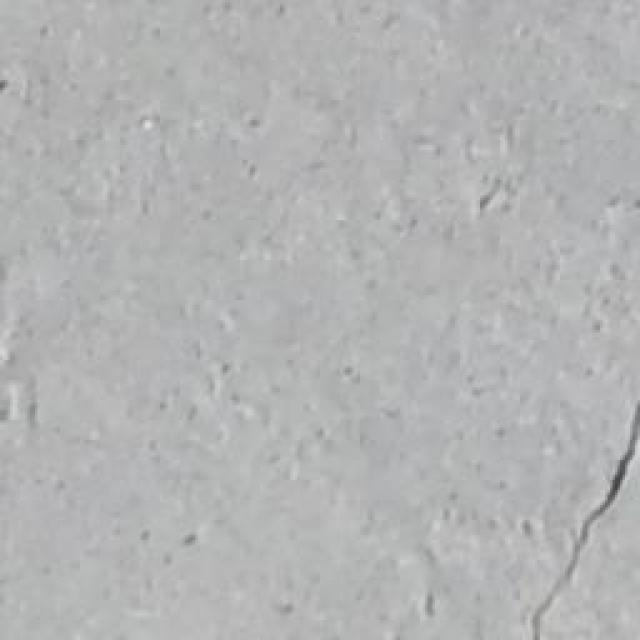concrete-crack: (524, 398, 640, 639)
